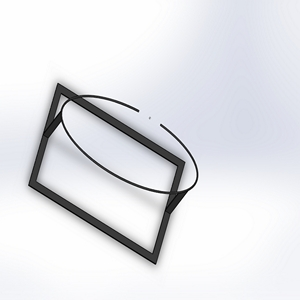circle: (26, 78, 201, 265)
